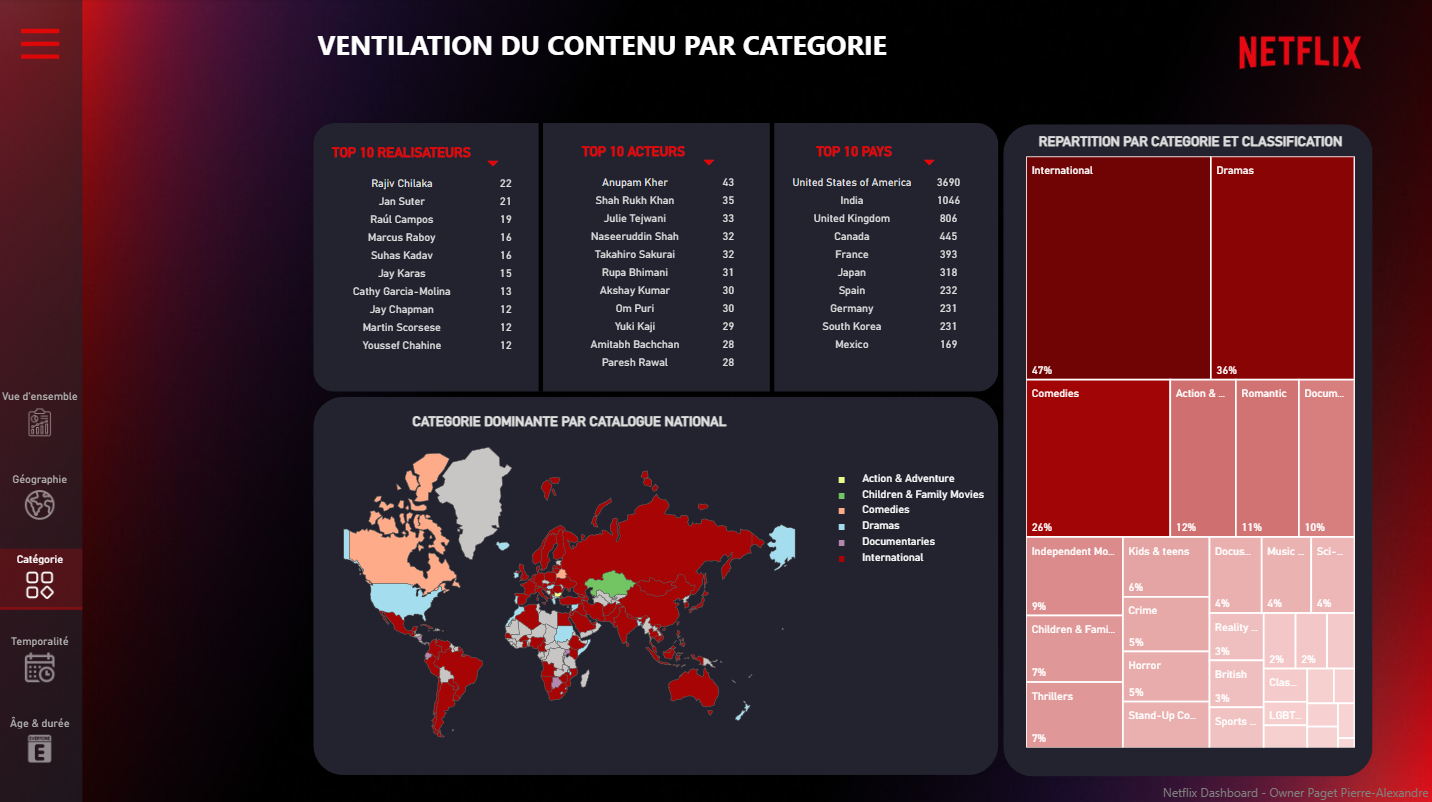

What the dashboard file says about the page in this screenshot:
{"tool":"powerbi","page":{"name":"Catégorie","canvas":[1280,720],"ordinal":2},"visuals":[{"type":"shape","title":"Forme - pages","box":[0,0,76,720.7],"z":0,"group":"g1"},{"type":"shape","box":[281.1,111.7,610,239.4],"z":0},{"type":"shape","box":[896.5,112.6,329,580.8],"z":1000},{"type":"pageNavigator","box":[0,344.1,76.2,351],"z":1000,"group":"g1"},{"type":"group","id":"g1","title":"Groupe de page","box":[0,0,76.2,720.7],"z":2000,"group":"g2"},{"type":"image","title":"Image - menu","box":[15.2,15.7,45.7,50],"z":2000,"group":"g1"},{"type":"shape","box":[281.1,354.7,610,336.9],"z":2000},{"type":"textbox","box":[1013.5,692.5,266.9,27.5],"z":4000},{"type":"textbox","box":[280.9,20,875.5,41.8],"z":5000},{"type":"image","box":[1094.2,0,132.7,94.1],"z":6000},{"type":"treemap","title":"REPARTITION PAR CATEGORIE ET CLASSIFICATION","fields":{"Group":["dim_categories.category"],"Values":["select","CountNonNull(fact_titles.show_id)"]},"box":[911.5,120.6,302.4,552.4],"z":7000},{"type":"tableEx","title":"TOP 10 ACTEURS","fields":{"Values":["dim_actors.acteur","fact_titles.show_id"]},"box":[496.6,111.7,212.8,248.3],"z":8000},{"type":"tableEx","title":"TOP 10 REALISATEUR","fields":{"Values":["dim_directors.director","fact_titles.show_id"]},"box":[274,112.6,222.6,241.2],"z":9000},{"type":"tableEx","title":"TOP 10 PAYS","fields":{"Values":["dim_geography.country","fact_titles.show_id"]},"box":[687.2,111.7,213.7,243.8],"z":10000},{"type":"shape","box":[443.1,111.7,82.5,239.4],"z":11000},{"type":"shape","box":[649.3,110,82.5,242.1],"z":12000},{"type":"group","id":"g2","title":"Groupe MENU","box":[0,0,229.2,720.7],"z":13000},{"type":"shapeMap","title":"CATEGORIE DOMINANTE PAR CATALOGUE NATIONAL","fields":{"Category":["dim_geography.country"]},"box":[281.1,369.8,456.7,311.2],"z":14000},{"type":"tableEx","fields":{"Values":["Mesures.Symbole Legende","Table_Couleurs.category"]},"box":[737.7,393.7,154.3,279.3],"z":15000},{"type":"image","title":"Vue d''ensemble","box":[0,349.4,76.3,41.7],"z":16000},{"type":"image","title":"Géographie","box":[0,423,76.3,41.7],"z":17000},{"type":"image","title":"Catégorie","box":[0,494.8,76.3,41.7],"z":18000},{"type":"image","title":"Temporalité","box":[0,567.5,76.3,41.7],"z":19000},{"type":"image","title":"Âge & durée","box":[0,640.2,76.3,41.7],"z":20000}]}

Visuals, with their boxes in screenshot pixels (x1, y1, x2, y2), scaled from the page's 1280x720 canvas onto the 1432x802 screenshot:
"Forme - pages" shape: crop(0, 0, 85, 801)
shape: crop(314, 124, 997, 391)
shape: crop(1003, 125, 1371, 772)
pageNavigator: crop(0, 383, 85, 774)
"Groupe de page" group: crop(0, 0, 85, 801)
"Image - menu" image: crop(17, 17, 68, 73)
shape: crop(314, 395, 997, 770)
textbox: crop(1134, 771, 1431, 801)
textbox: crop(314, 22, 1294, 69)
image: crop(1224, 0, 1373, 105)
"REPARTITION PAR CATEGORIE ET CLASSIFICATION" treemap: crop(1020, 134, 1358, 750)
"TOP 10 ACTEURS" tableEx: crop(556, 124, 794, 401)
"TOP 10 REALISATEUR" tableEx: crop(307, 125, 556, 394)
"TOP 10 PAYS" tableEx: crop(769, 124, 1008, 396)
shape: crop(496, 124, 588, 391)
shape: crop(726, 123, 819, 392)
"Groupe MENU" group: crop(0, 0, 256, 801)
"CATEGORIE DOMINANTE PAR CATALOGUE NATIONAL" shapeMap: crop(314, 412, 825, 759)
tableEx - Mesures.Symbole Legende x Table_Couleurs.category: crop(825, 439, 998, 750)
"Vue d''ensemble" image: crop(0, 389, 85, 436)
"Géographie" image: crop(0, 471, 85, 518)
"Catégorie" image: crop(0, 551, 85, 598)
"Temporalité" image: crop(0, 632, 85, 679)
"Âge & durée" image: crop(0, 713, 85, 760)
